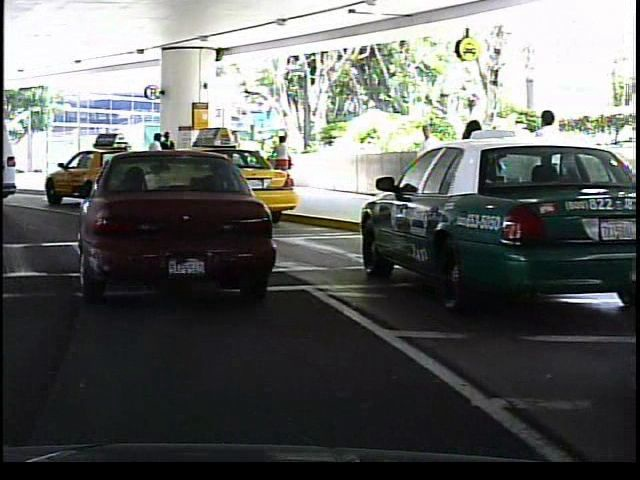person: (456, 111, 505, 230), (528, 104, 571, 232), (410, 118, 447, 210), (269, 132, 295, 192), (223, 124, 247, 188), (145, 132, 166, 188), (159, 129, 178, 189)
